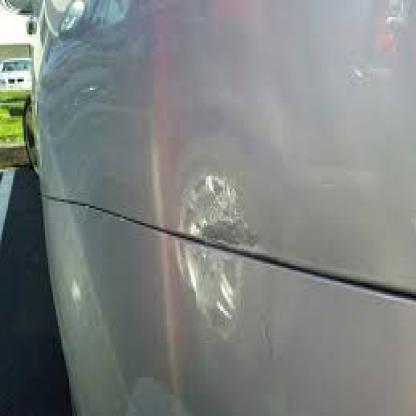dent: (172, 163, 258, 333)
